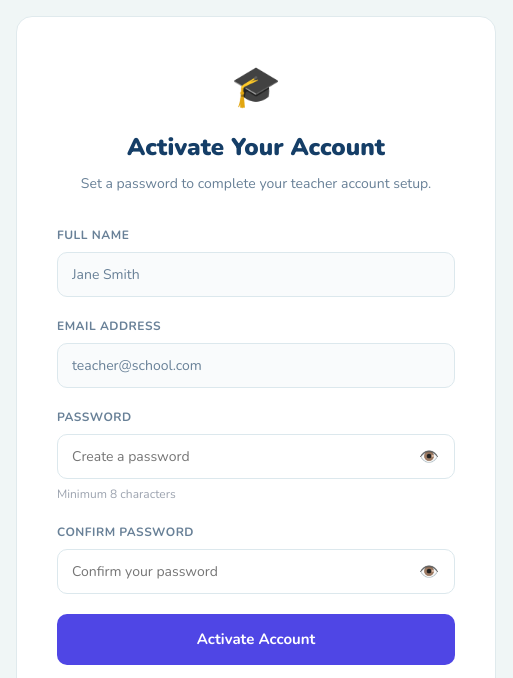
it: AcceptInvitation page › password shorter than 8 characters shows validation error
Expected: the heading "Activate Your Account" is shown, [127, 131, 385, 163]
Type "short" into the password field labelled "Create a password". click: (256, 456)
box: [57, 434, 455, 479]
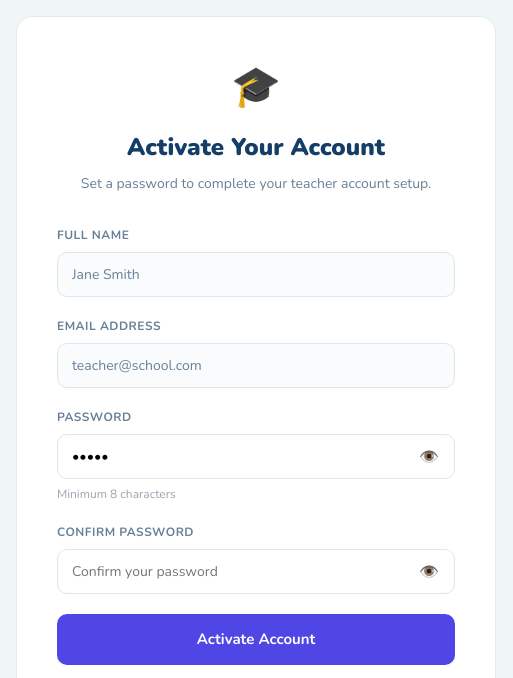
Type "short" into the password field named "Confirm password". click: (256, 572)
box: [57, 549, 455, 594]
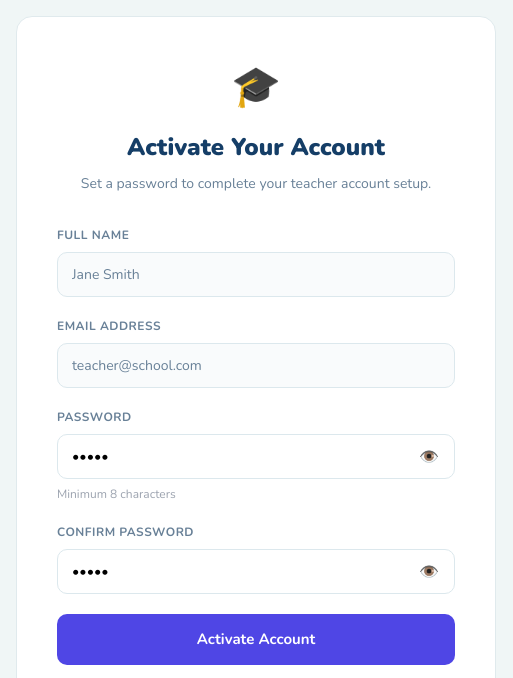
Click the button "Activate Account". click: (256, 639)
box: [57, 614, 455, 664]
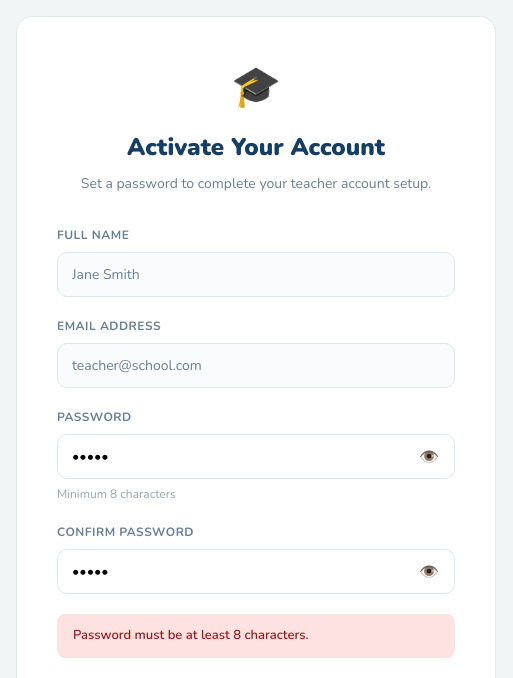
Now the text "Password must be at least 8 characters." is shown, box [57, 614, 455, 658]
